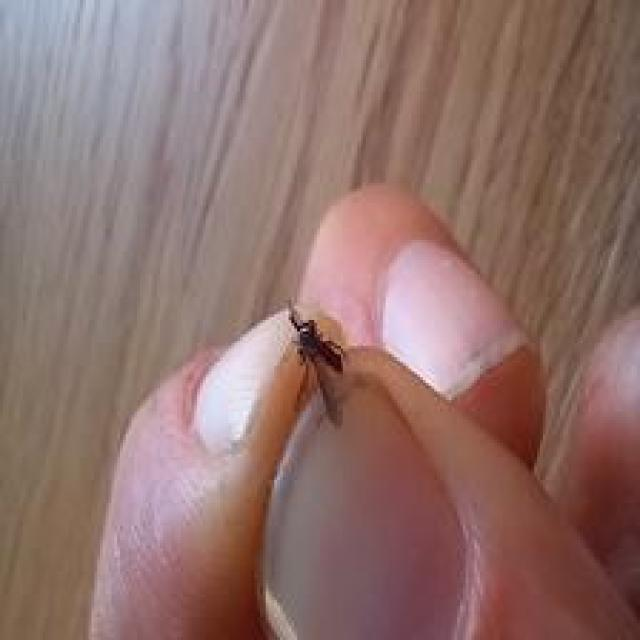Aedes albopictus: (284, 296, 350, 427)
